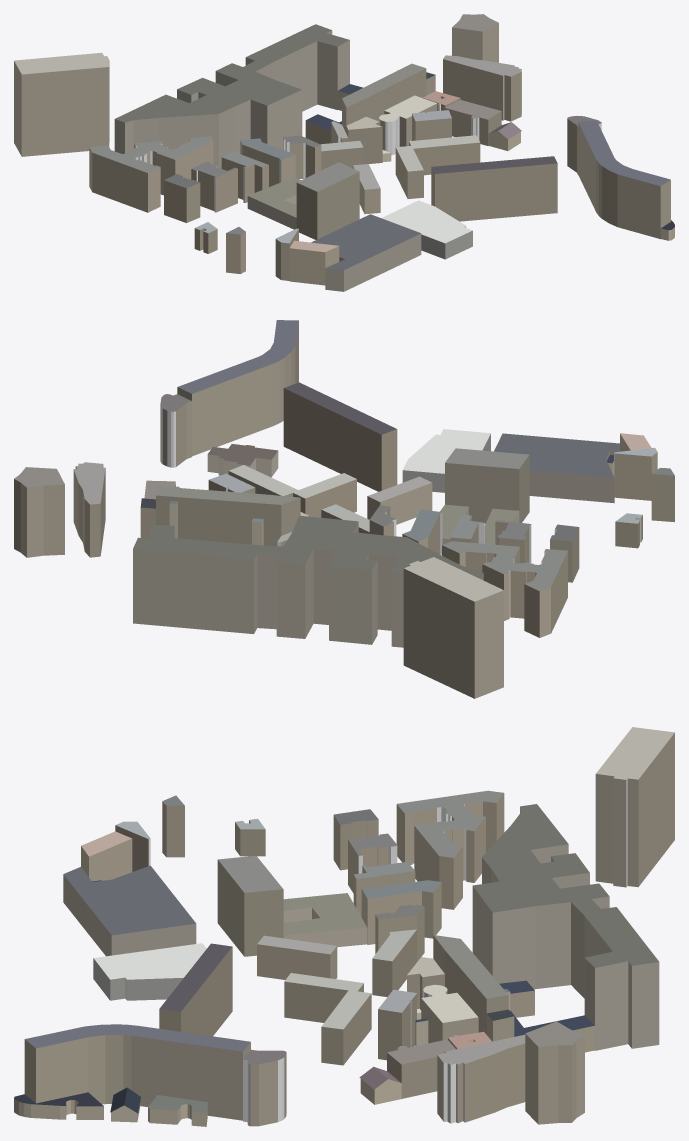
3 views of the same model, one above another, from view 1: azimuth 30°, elevation 25°; view 2: azimuth 150°, elevation 25°; view 3: azimuth 270°, elevation 25° (orthographic). The views are drawn at different scales.
Parts seen in each view (by area): view 1: tuile; view 2: tuile; view 3: tuile.
Boxes of the visible parts, x1=… form: tuile: x1=14, y1=14, x2=674, y2=291; tuile: x1=14, y1=320, x2=674, y2=698; tuile: x1=14, y1=727, x2=674, y2=1126.
Size of the model in its own units: 286 by 58.86 by 285.
